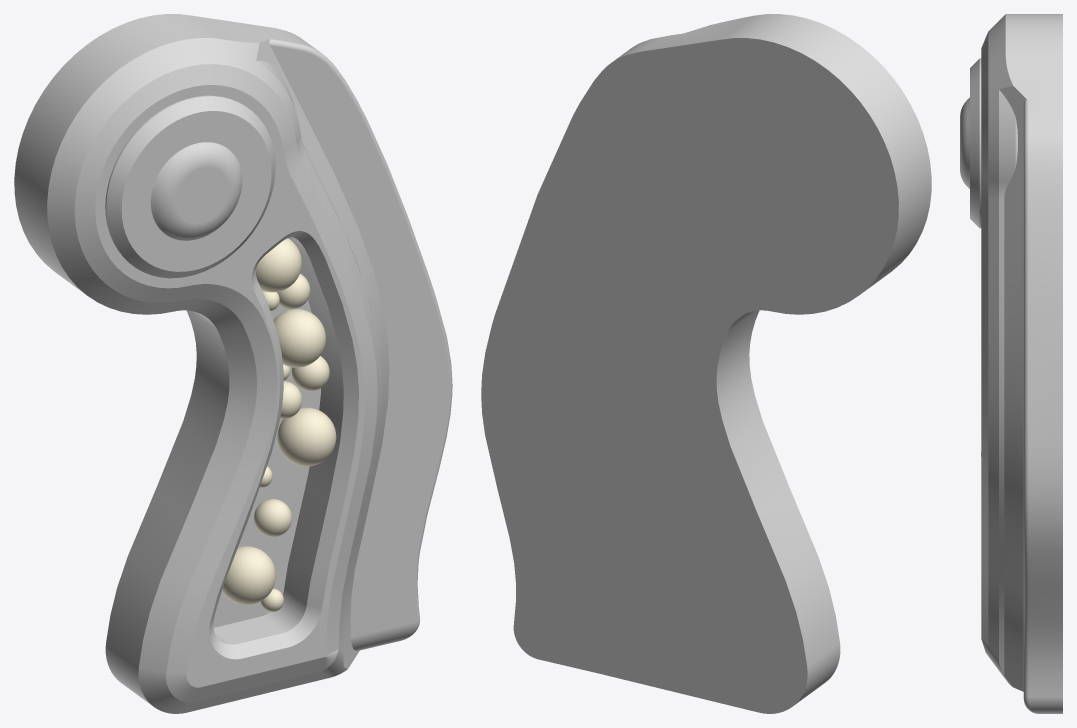
File: ScrollBench.glb
The picture shows the model from 3 angles, left to right: view 1: azimuth 30°, elevation 25°; view 2: azimuth 150°, elevation 25°; view 3: azimuth 270°, elevation 25°; orthographic projection. The views are drawn at different scales.
Visible parts, largest first — view 1: Part 1, Part 2 (×4), Part 4 (×3); view 2: Part 1; view 3: Part 1.
Part boxes in pixels (box(x1,y1,x2,y2)): Part 1: box(14, 14, 452, 713); Part 2 (×4): box(222, 238, 336, 604); Part 4 (×3): box(254, 273, 329, 536); Part 1: box(481, 14, 931, 713); Part 1: box(960, 14, 1062, 713).
Bounding box in the file's own units: 0.0218 × 0.0336 × 0.00533.
